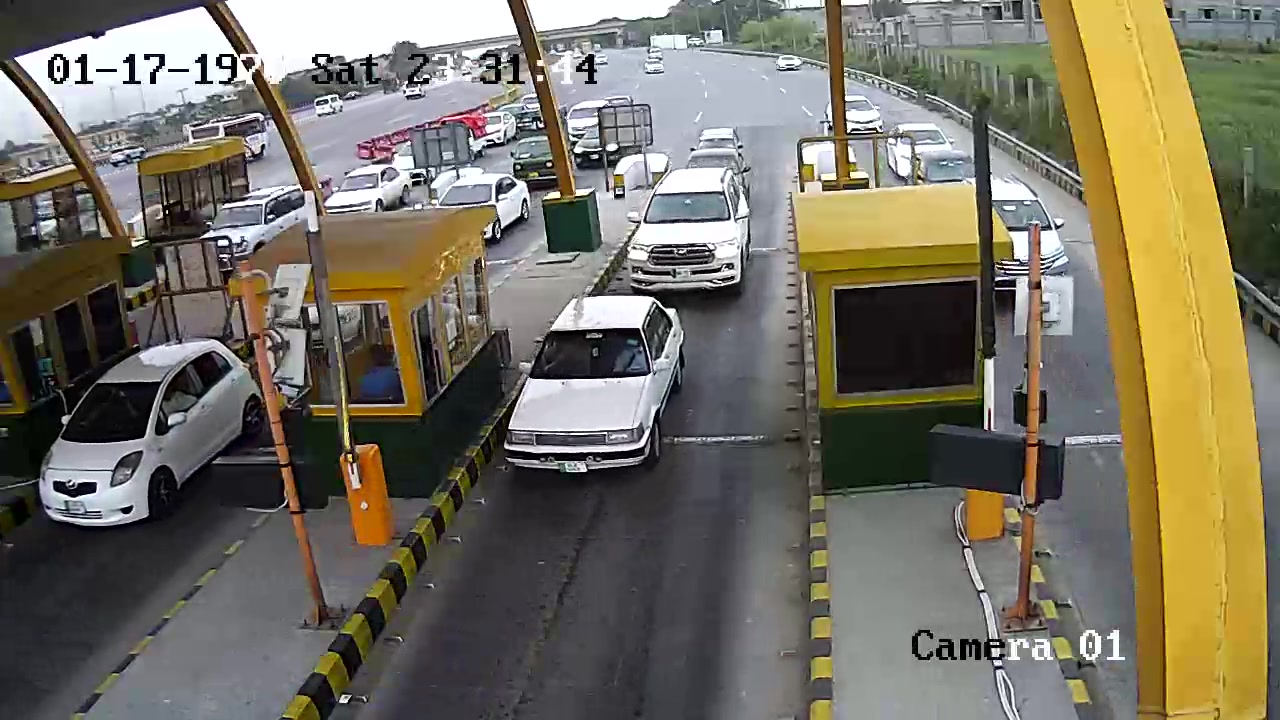F1: (483, 297, 706, 490), (630, 167, 754, 302)
